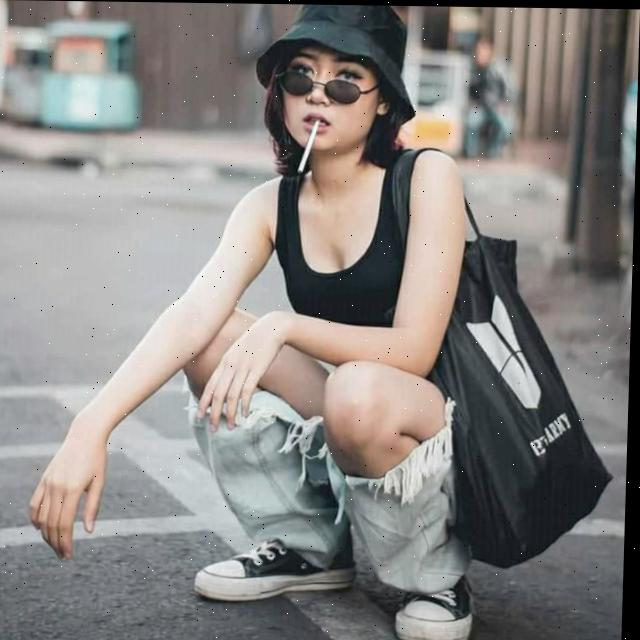cigarette: (299, 119, 321, 173)
